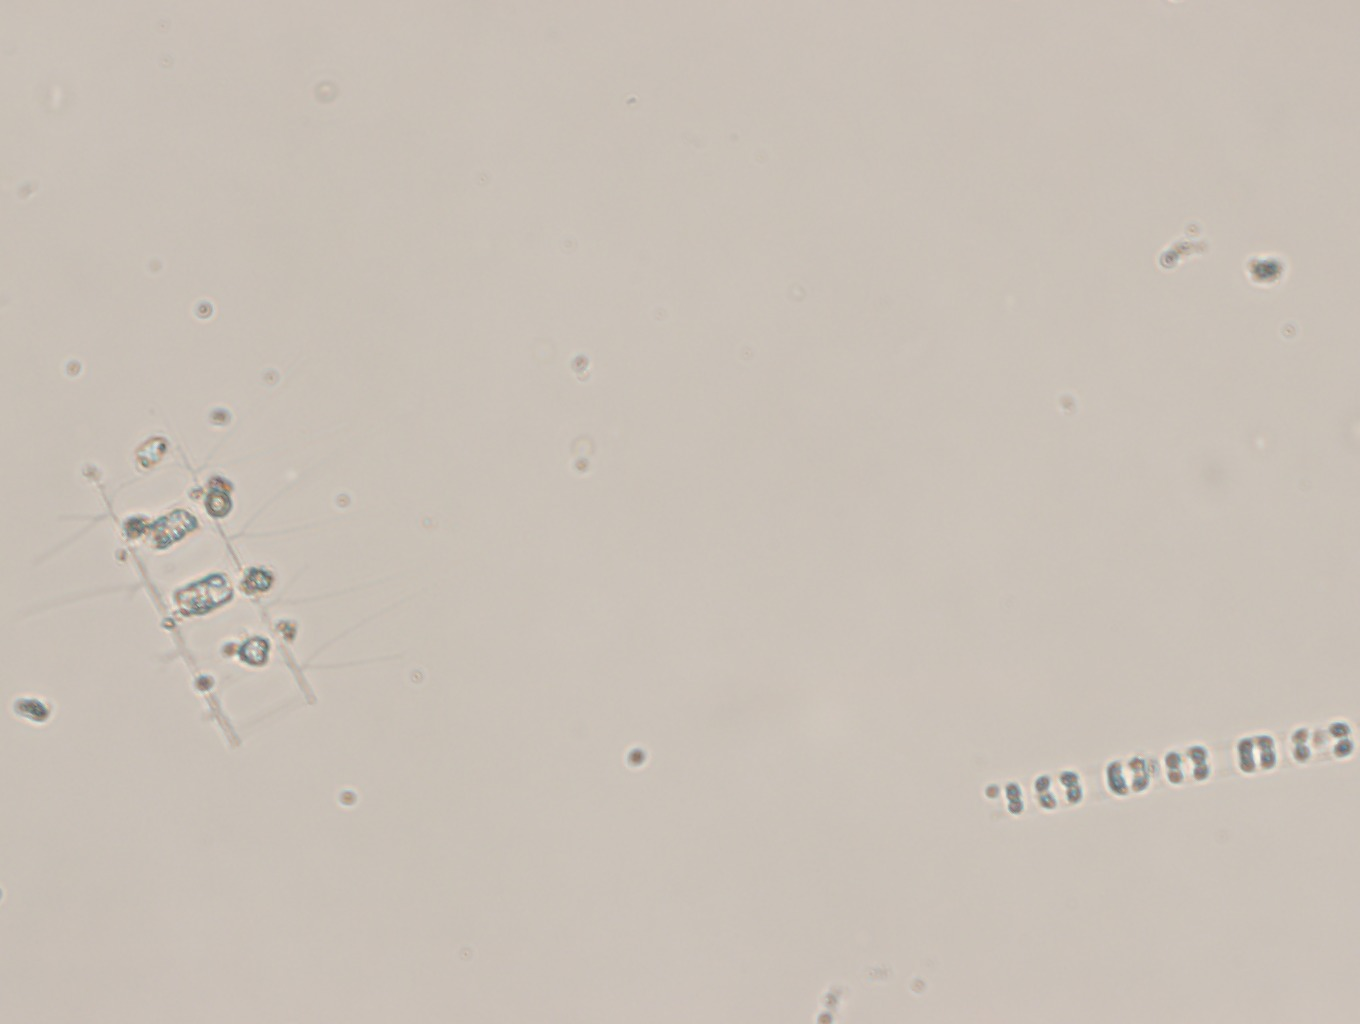chaetoceros: (9, 422, 403, 751)
skeletonema: (968, 712, 1356, 833)
